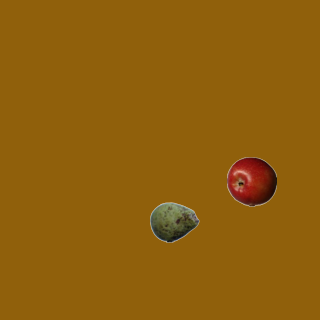Apple Braeburn: (226, 156, 276, 206)
Pear Stone: (149, 197, 199, 247)
